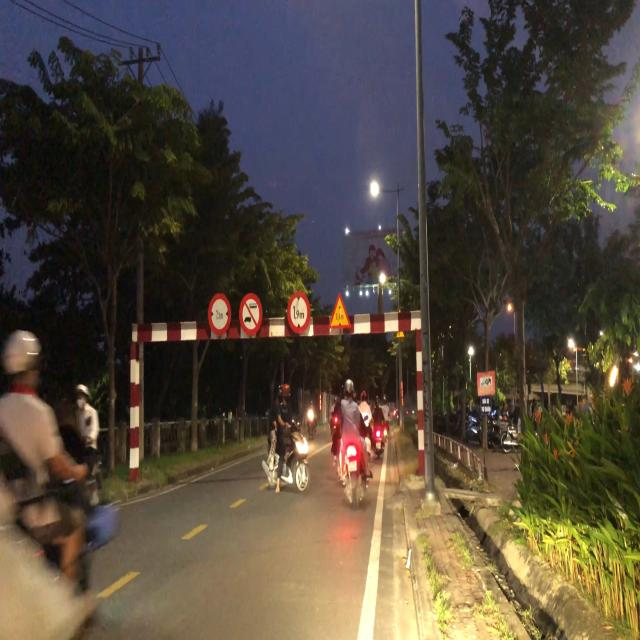Bien bao cam xe oto khach va xe oto tai: (239, 288, 267, 337)
Bien bao chieu cao tinh khong thuc te: (327, 290, 358, 334)
Bien bao han che chieu cao: (286, 284, 314, 338)
